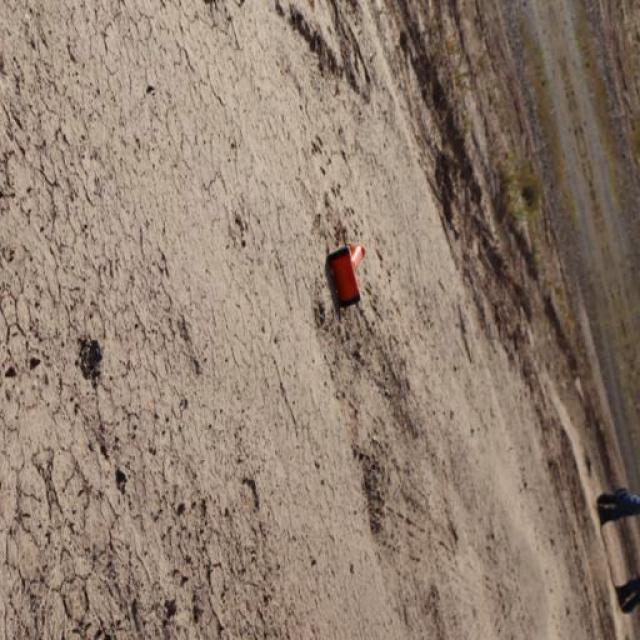mallet: (324, 241, 365, 309)
